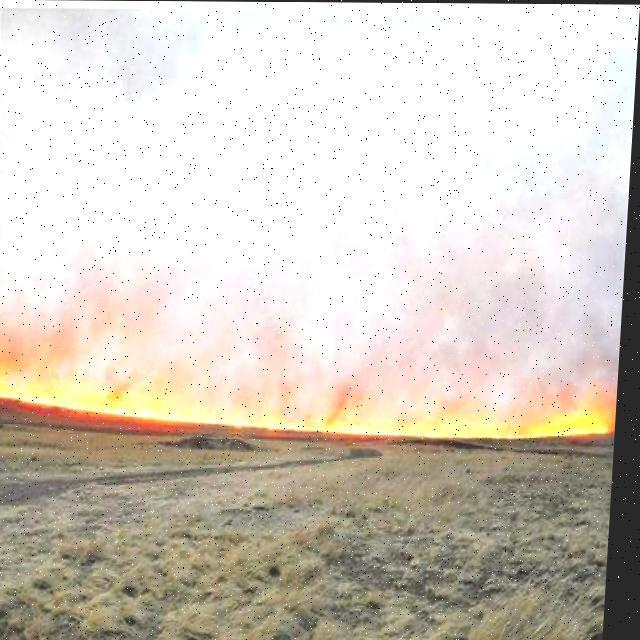Fire: (0, 377, 618, 439)
